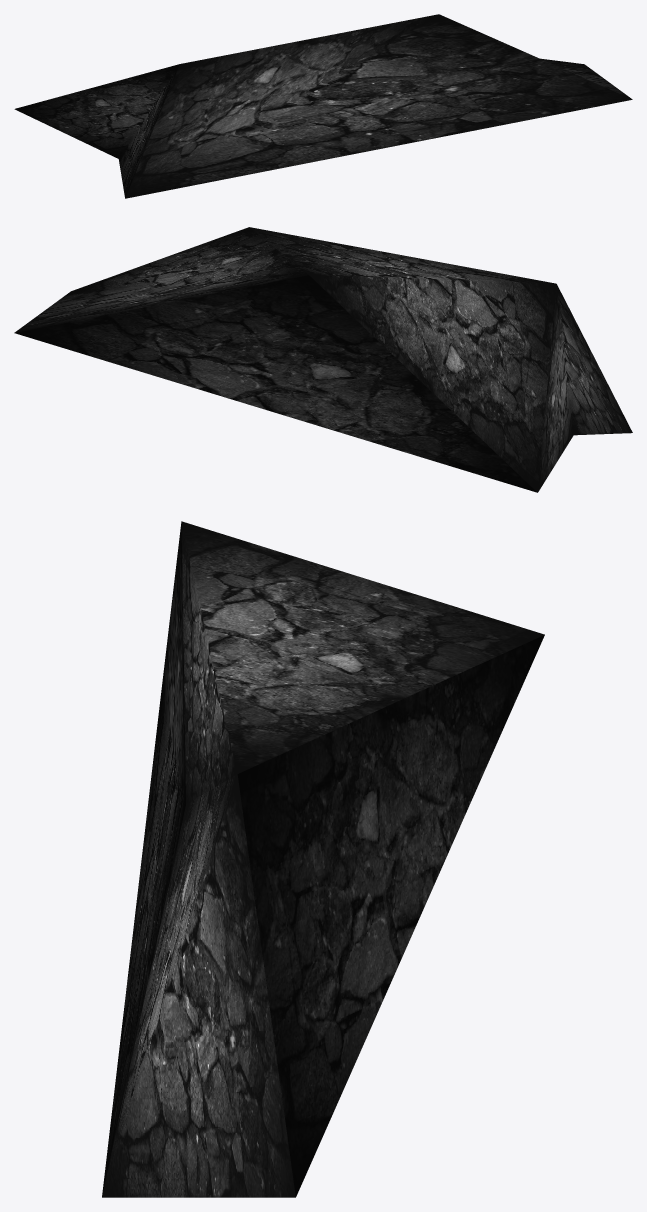
The model's file is RuinJ1.FBX.
The picture shows the model from 3 angles, top to bottom: view 1: azimuth 30°, elevation 25°; view 2: azimuth 150°, elevation 25°; view 3: azimuth 270°, elevation 25°; orthographic projection. The views are drawn at different scales.
Visible parts, largest first — view 1: Box001; view 2: Box001; view 3: Box001.
Boxes of the visible parts, x1=… form: Box001: x1=14, y1=14, x2=632, y2=198; Box001: x1=14, y1=227, x2=632, y2=492; Box001: x1=102, y1=521, x2=544, y2=1197.
Bounding box in the file's own units: 96.76 × 23.07 × 36.54.
1 material, 1 textured.
